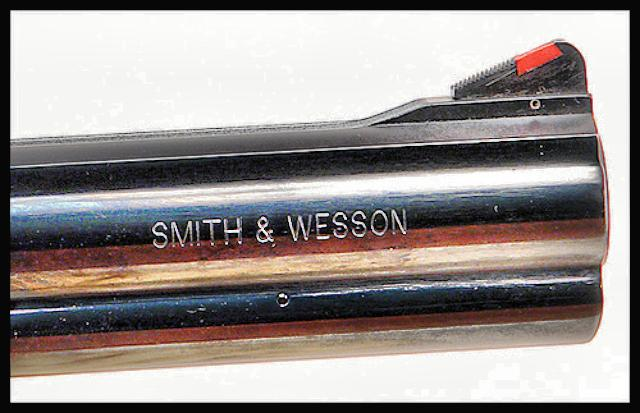pistol: (8, 37, 608, 378)
